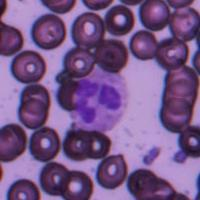N: (71, 69, 129, 132)
